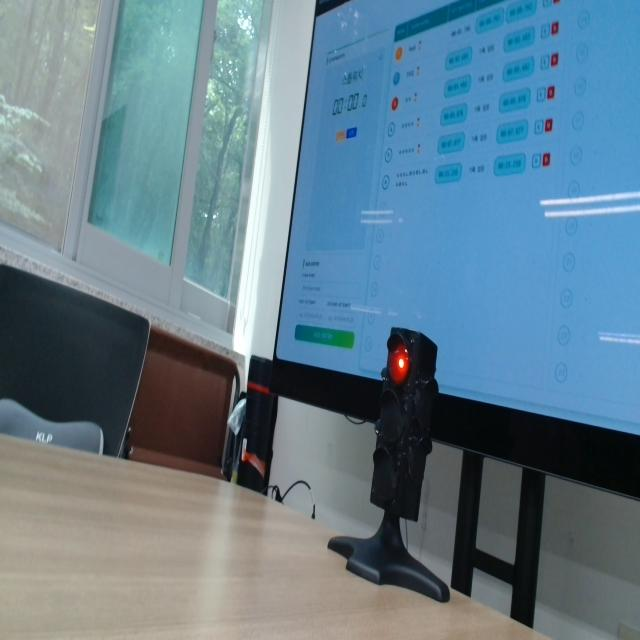red_light: (388, 343, 410, 385)
